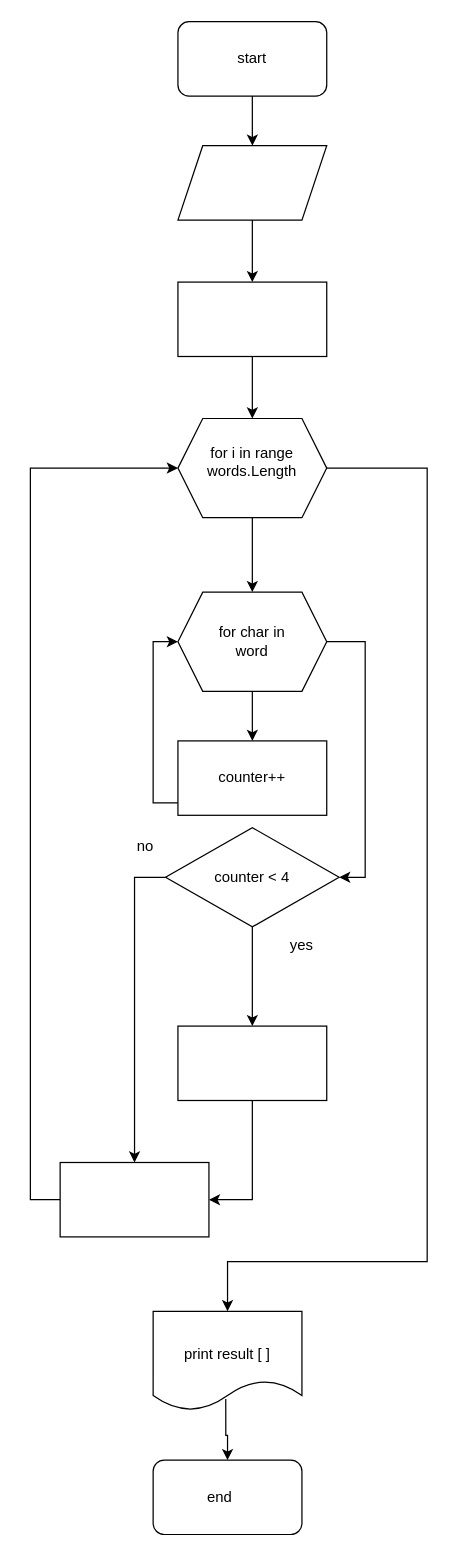
Image size: 459x1556. Some labels were removed from this diagram. The shapes that lost their labels are listed below. From the top down, each one's centre as x and y in pixels, then its label:
the point at 252,182: input str
the point at 252,318: words = str.split counter = 0 result []
the point at 252,1062: result.add word
the point at 134,1199: counter = 0
